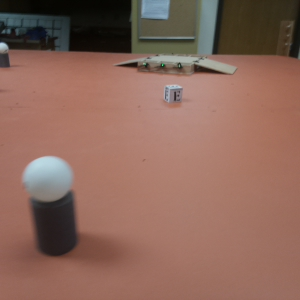obstacle: (24, 157, 80, 258), (1, 42, 10, 69)
slope: (137, 59, 194, 75), (195, 58, 239, 76), (113, 58, 139, 69)
